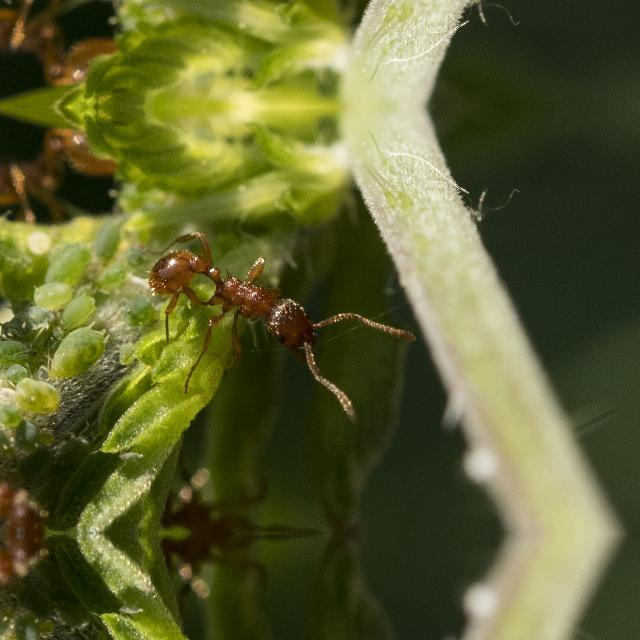Myrmica: (125, 221, 389, 393), (148, 440, 328, 532), (148, 532, 328, 624), (0, 114, 116, 220), (0, 0, 116, 98), (0, 444, 90, 530), (0, 532, 90, 618)
